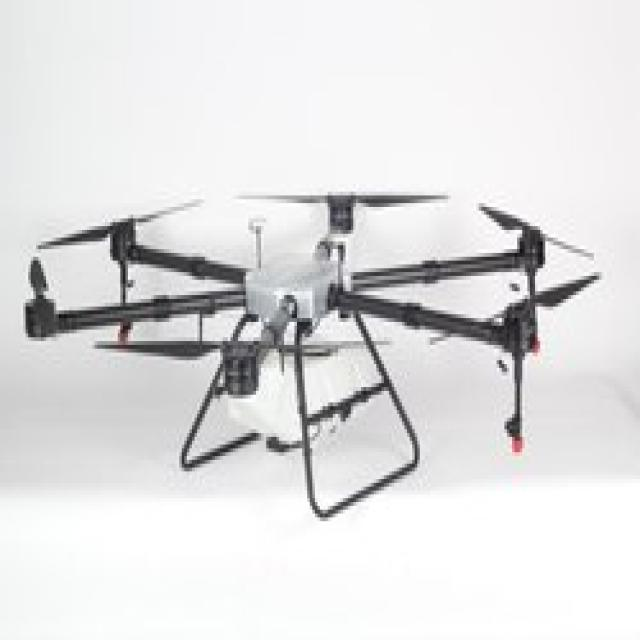drone: (0, 103, 640, 550)
